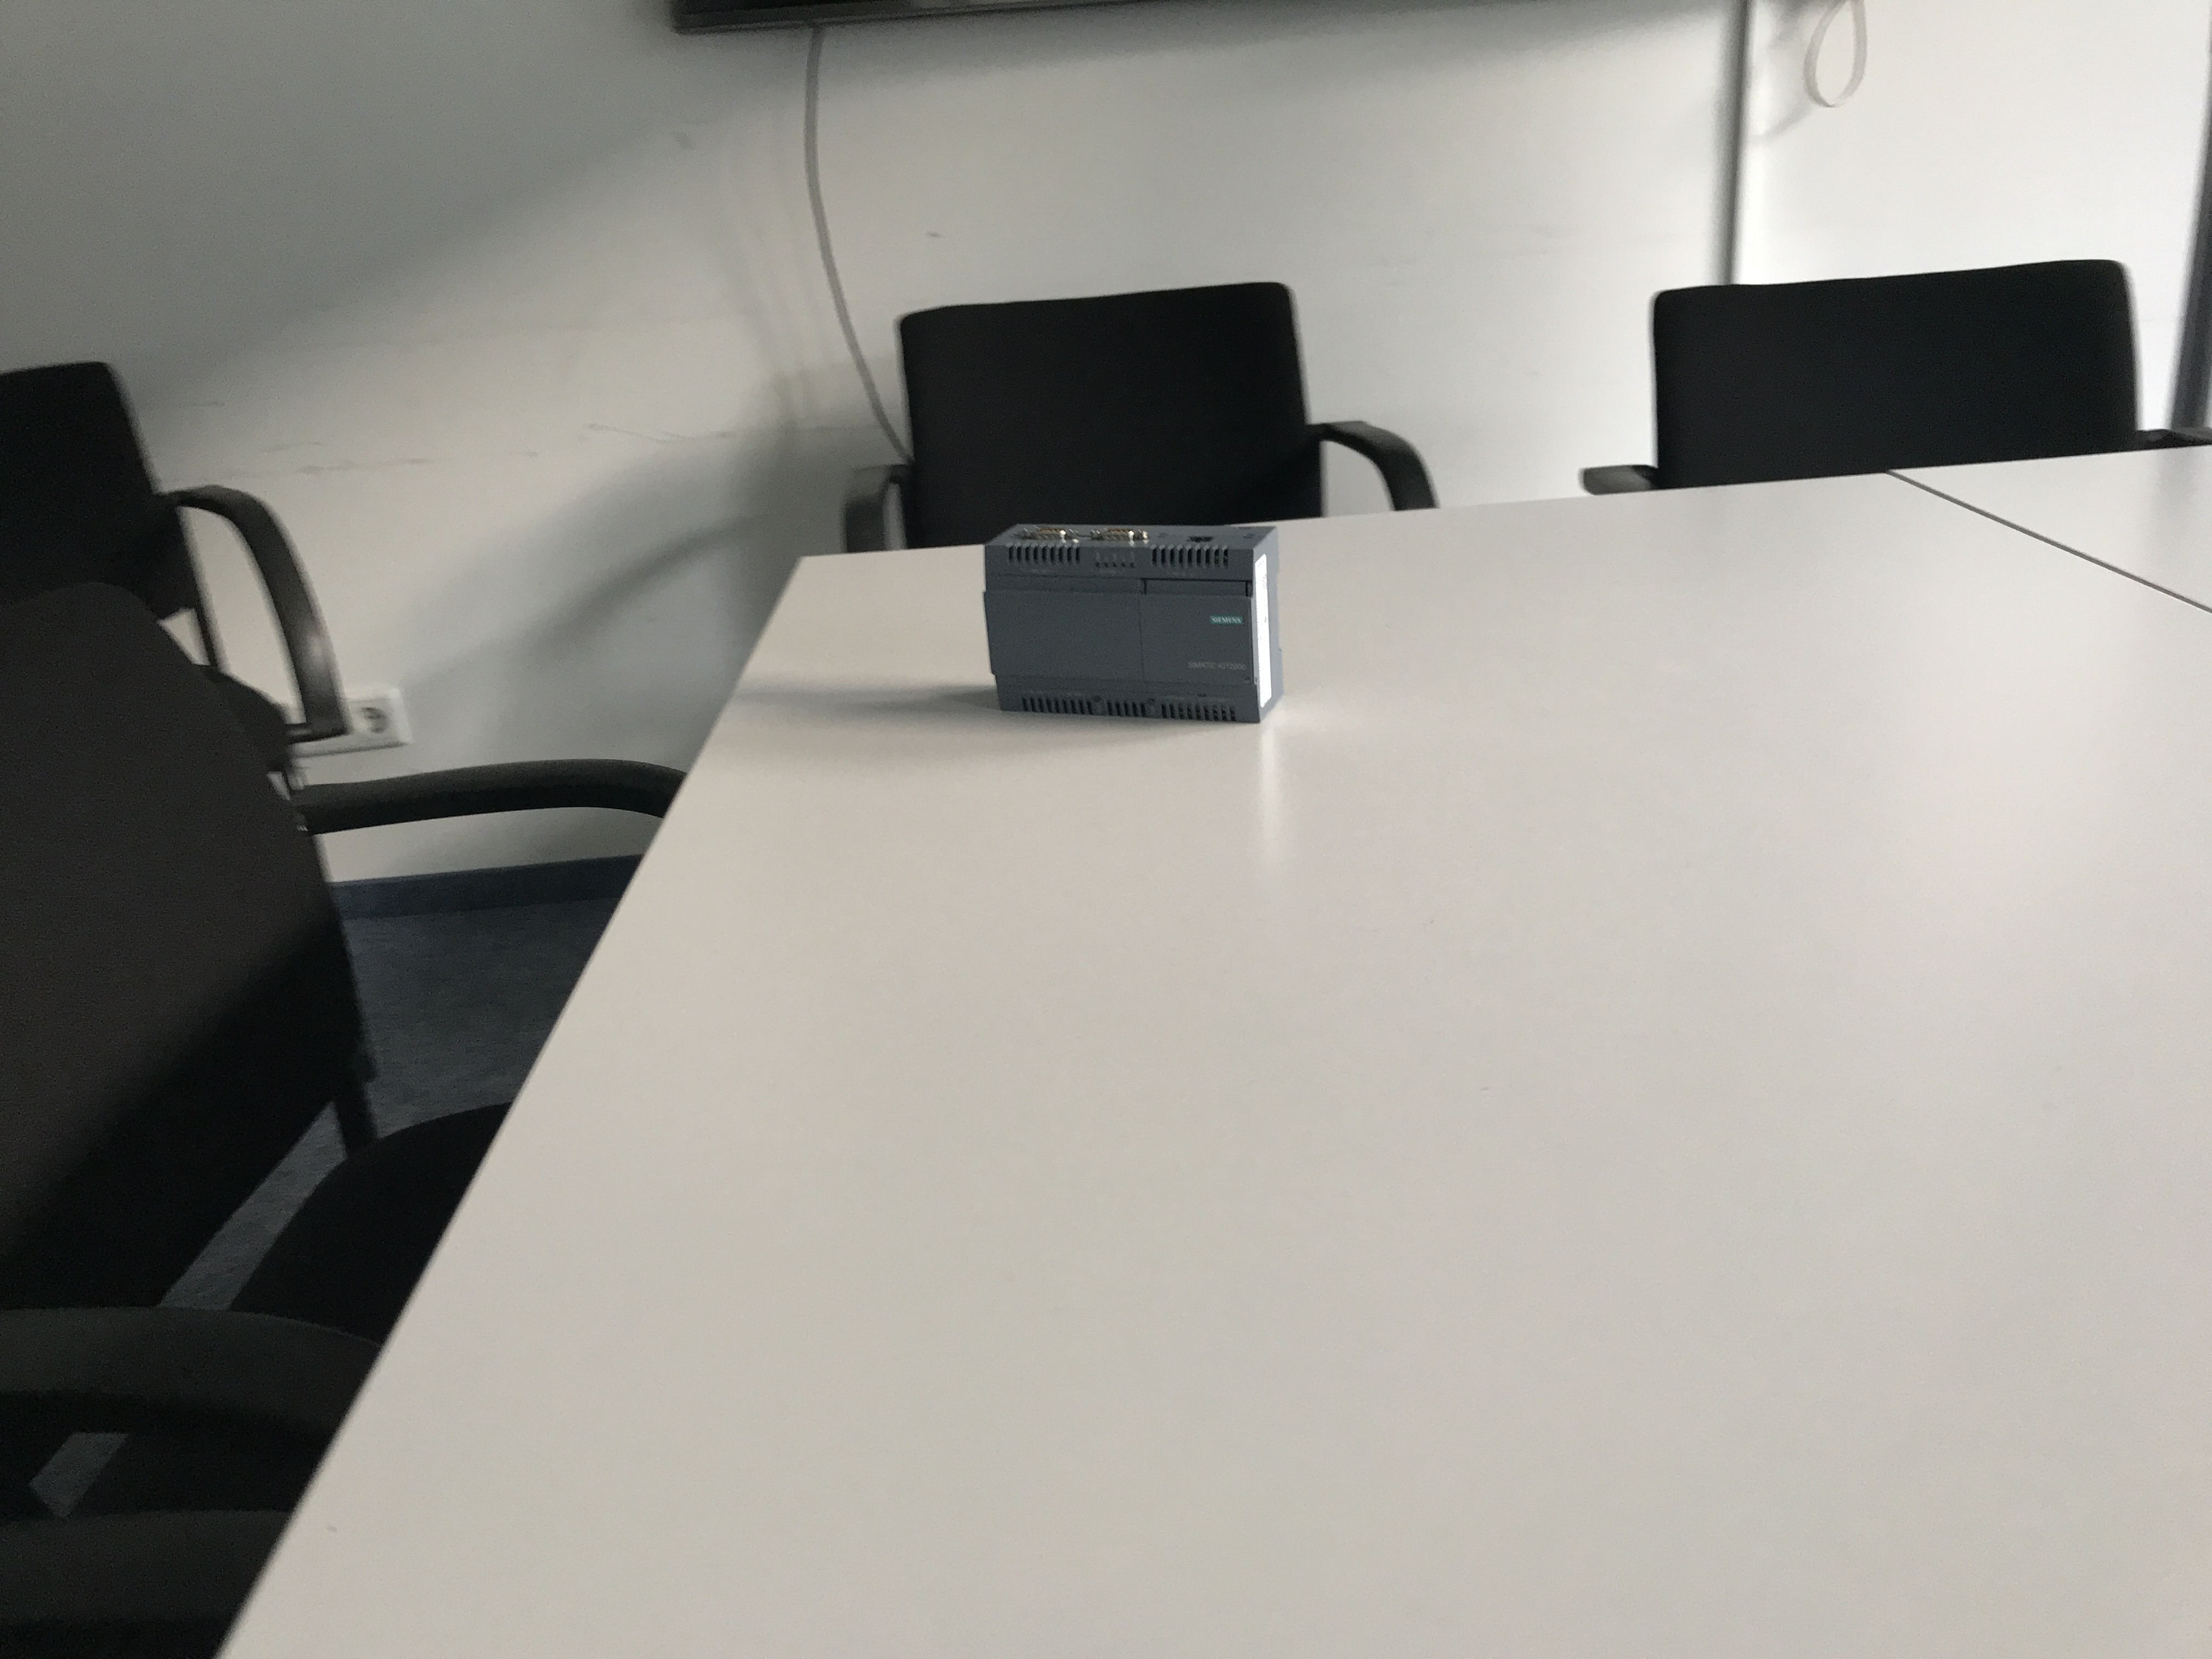device: (982, 525, 1285, 723)
